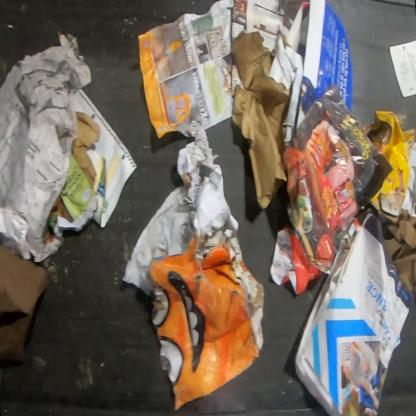cardboard: (147, 231, 266, 413), (230, 30, 292, 211), (296, 0, 353, 133), (361, 108, 415, 218), (72, 112, 100, 190)
